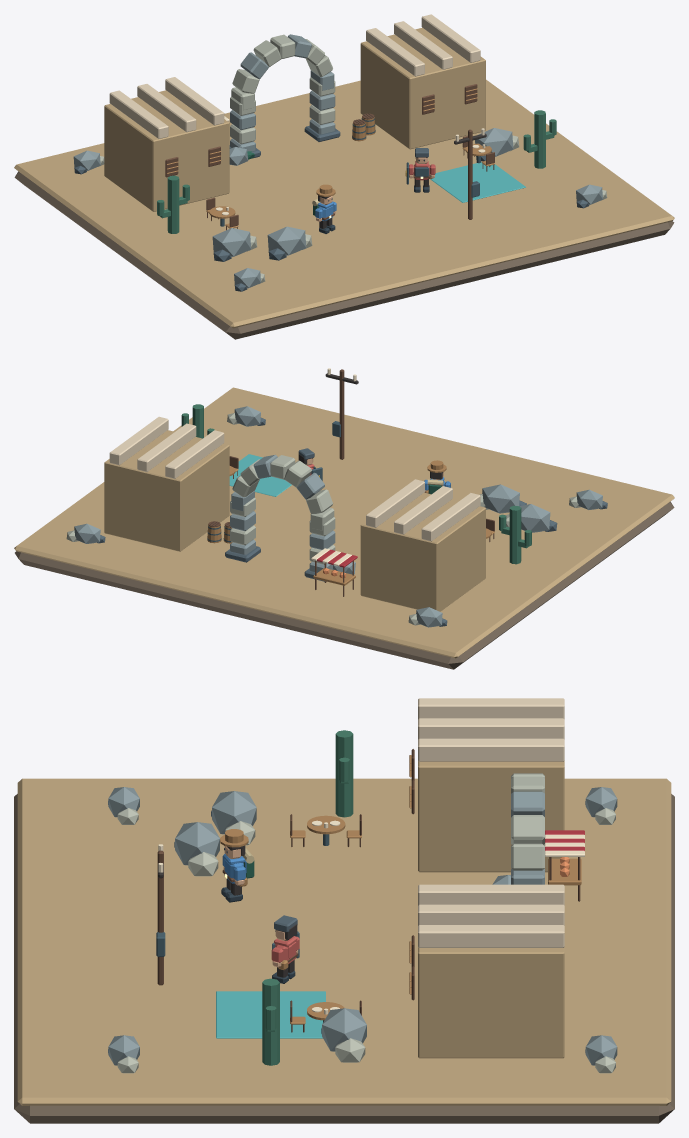
File: world-desert.glb
The picture shows the model from 3 angles, top to bottom: view 1: azimuth 30°, elevation 25°; view 2: azimuth 150°, elevation 25°; view 3: azimuth 270°, elevation 25°; orthographic projection. The views are drawn at different scales.
Parts seen in each view (by area): view 1: terrain-top, adobe-house.001, adobe-house, terrain-stratum, oasis, battlement.001, battlement.005, battlement, battlement.002, battlement.003, battlement.004, rock.006 (+4 smaller); view 2: terrain-top, adobe-house.001, adobe-house, terrain-stratum, battlement.005, battlement.003, battlement, battlement.004, battlement.001, battlement.002, rock.006, oasis (+6 smaller); view 3: terrain-top, adobe-house.001, terrain-stratum, adobe-house, oasis, battlement.002, battlement.005, battlement, battlement.001, battlement.003, battlement.004, rock.009 (+13 smaller).
Boxes of the visible parts, box(x1,y1,x2,y2) form: terrain-top: box(14, 79, 674, 328); adobe-house.001: box(360, 27, 485, 149); adobe-house: box(104, 90, 229, 211); terrain-stratum: box(14, 171, 674, 339); oasis: box(430, 162, 525, 202); battlement.001: box(137, 84, 196, 132); battlement.005: box(421, 14, 480, 62); battlement: box(109, 90, 168, 138); battlement.002: box(165, 77, 224, 125); battlement.003: box(366, 28, 424, 76); battlement.004: box(394, 21, 452, 69); rock.006: box(267, 226, 306, 255); terrain-top: box(14, 387, 674, 658); adobe-house.001: box(104, 430, 229, 551); adobe-house: box(360, 492, 485, 611); terrain-stratum: box(15, 501, 674, 669); battlement.005: box(109, 416, 168, 465); battlement.003: box(165, 430, 224, 478); battlement: box(421, 493, 480, 541); battlement.004: box(137, 423, 196, 471); battlement.001: box(394, 486, 452, 534); battlement.002: box(366, 479, 424, 527); rock.006: box(482, 484, 519, 513); oasis: box(229, 454, 291, 496); terrain-top: box(17, 778, 671, 1105); adobe-house.001: box(418, 947, 564, 1058); terrain-stratum: box(14, 794, 674, 1123); adobe-house: box(418, 761, 564, 872); oasis: box(216, 991, 325, 1038); battlement.002: box(418, 738, 564, 761); battlement.005: box(418, 925, 564, 947); battlement: box(418, 698, 564, 719); battlement.001: box(418, 718, 564, 739); battlement.003: box(418, 884, 564, 905); battlement.004: box(418, 904, 564, 925); rock.009: box(322, 1008, 366, 1051).
Bounding box in the file's own units: 21 × 5.6 × 18.
